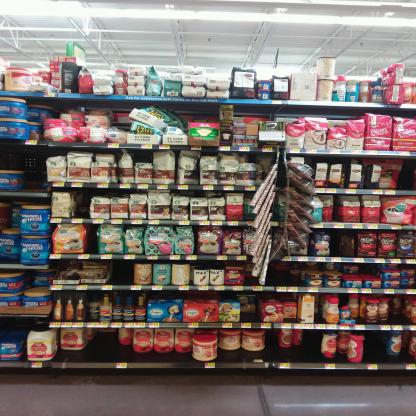Void: (22, 148, 46, 189), (273, 262, 299, 281), (366, 333, 384, 359), (93, 338, 116, 358), (3, 139, 18, 168), (269, 347, 295, 362), (76, 190, 89, 218), (305, 333, 319, 359), (112, 262, 130, 282), (4, 318, 23, 332), (403, 160, 412, 188), (135, 151, 152, 163), (365, 264, 378, 276)
